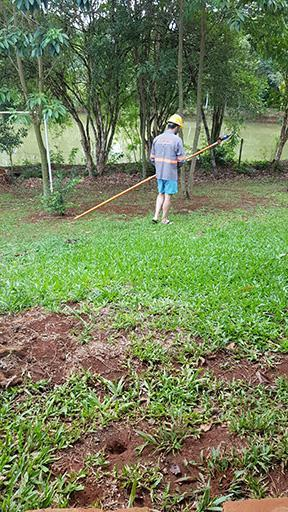helmet: (165, 113, 185, 133)
